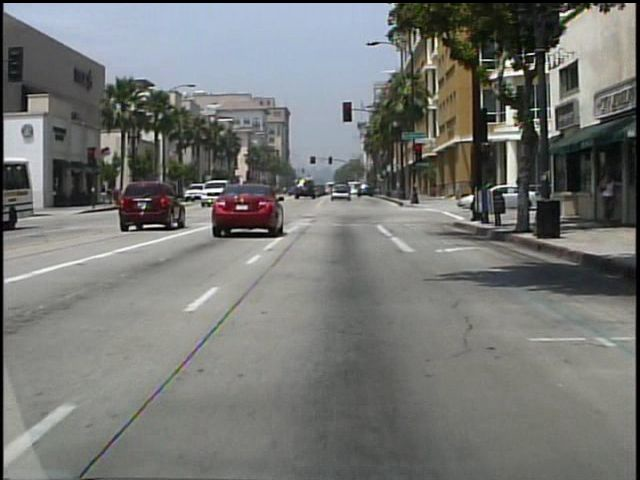person: (595, 167, 617, 228)
